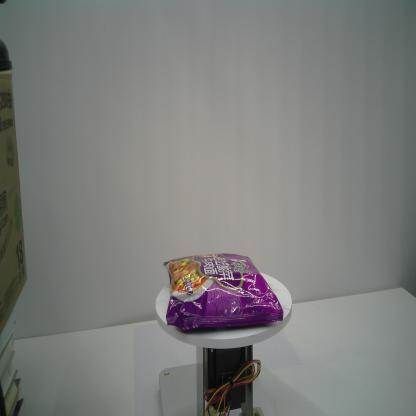Instant Noodles: (163, 252, 284, 332)
